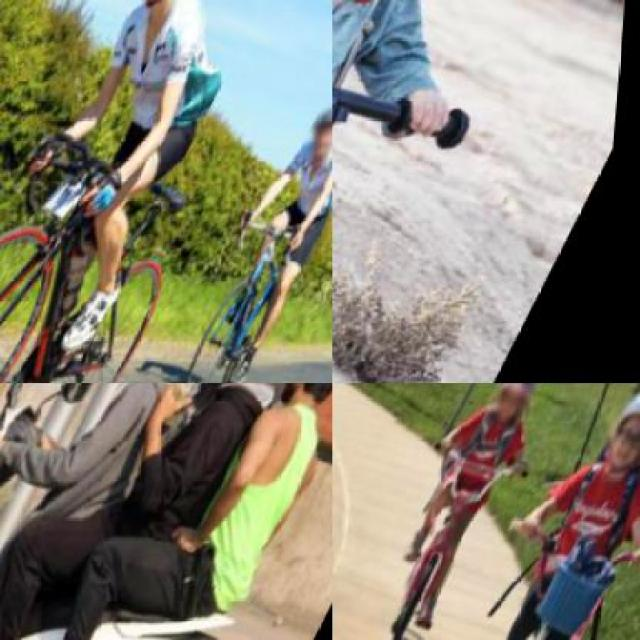With Helmet: (590, 383, 638, 494), (480, 383, 552, 443), (297, 103, 331, 179), (117, 0, 228, 23)
Without Helmet: (266, 383, 331, 446), (202, 383, 323, 415)
